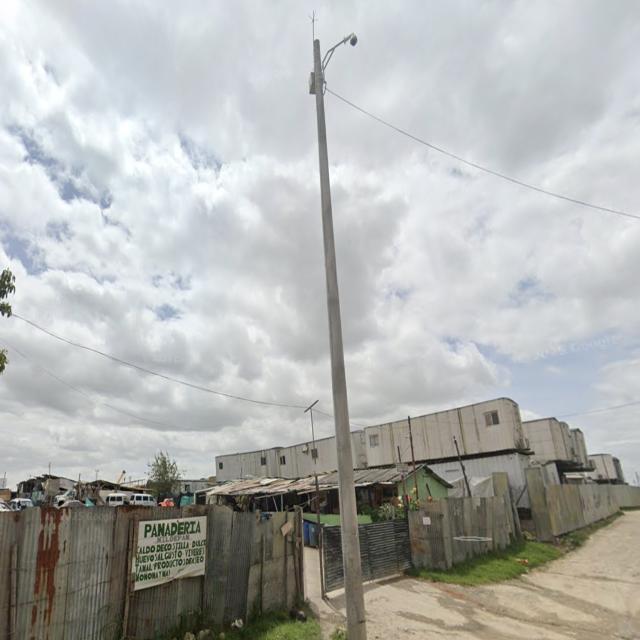Poste: (310, 33, 366, 640)
